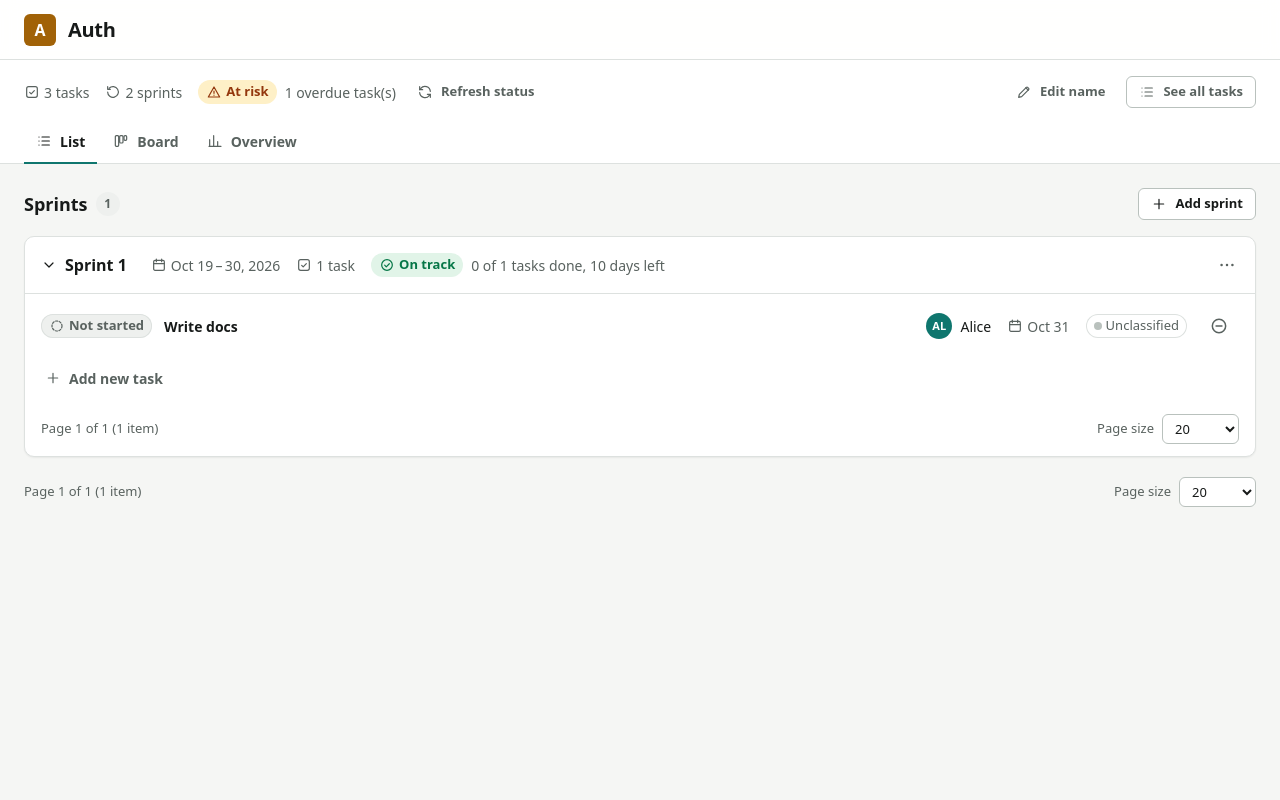
Test: Project page › tags selected existing tasks across a search, posting their ids
This screenshot has width=1280, height=800.
Click the button named "Actions for sprint Sprint 1" at (1227, 265), box [1207, 245, 1247, 285]
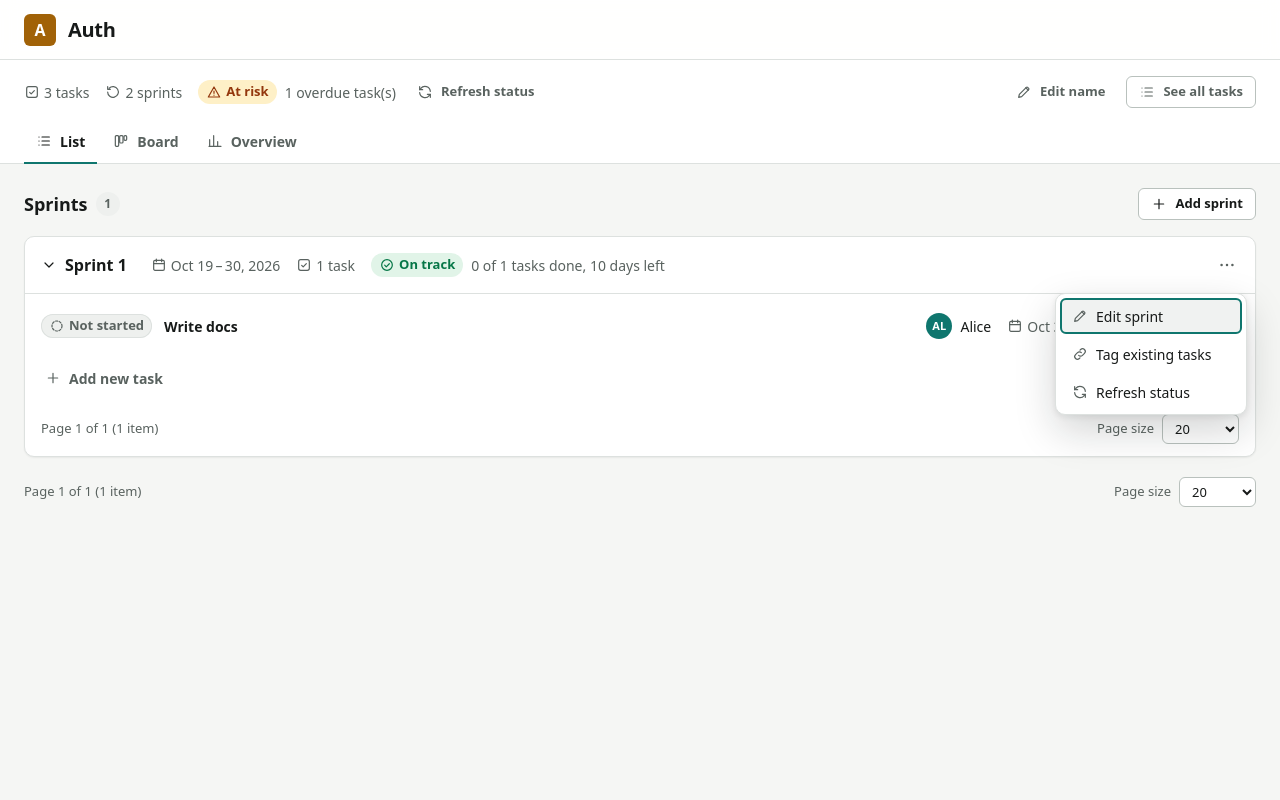
Click the menu item "Tag existing tasks" at (1151, 354), box [1060, 336, 1242, 372]
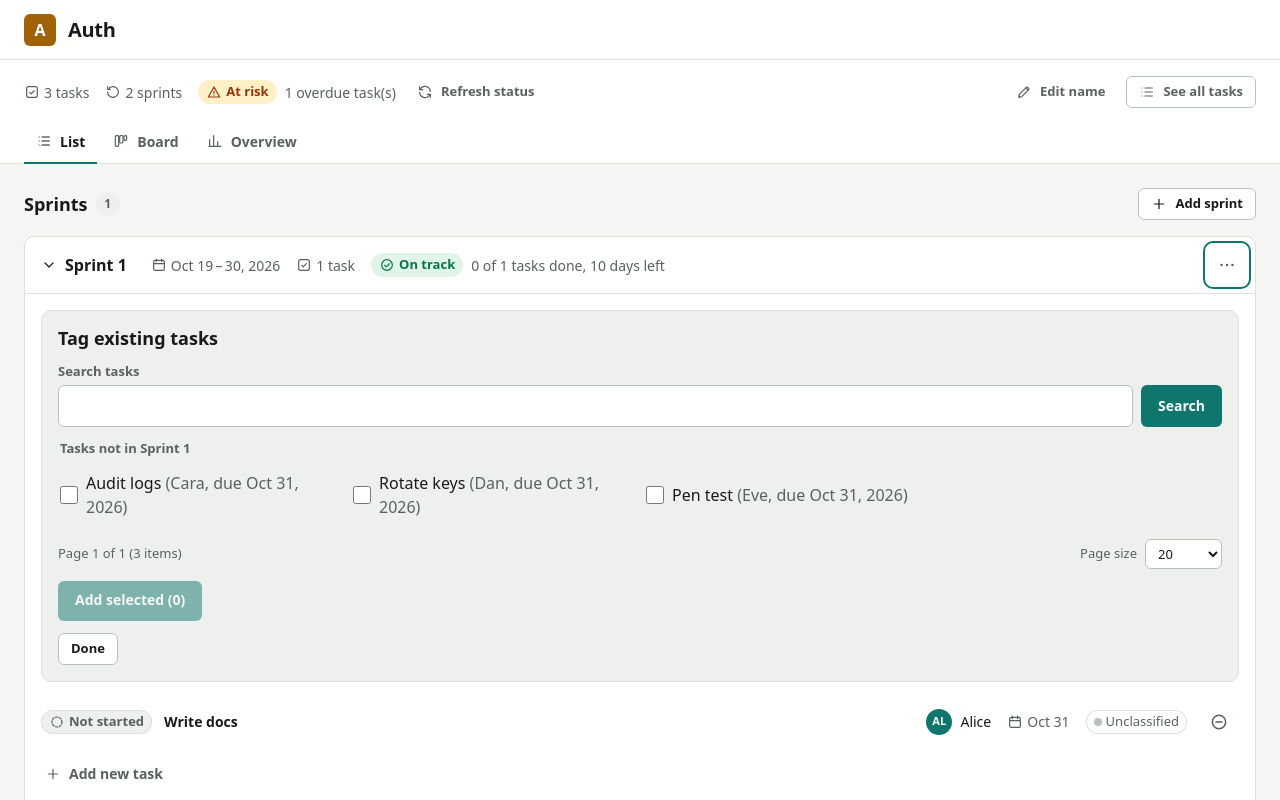
expect the button "Add selected (0)" is disabled: met, box [58, 580, 202, 620]
Click the checkbox labelled "Audit logs (Cara, due Oct 31, 2026)" at (69, 494), box [60, 486, 78, 504]
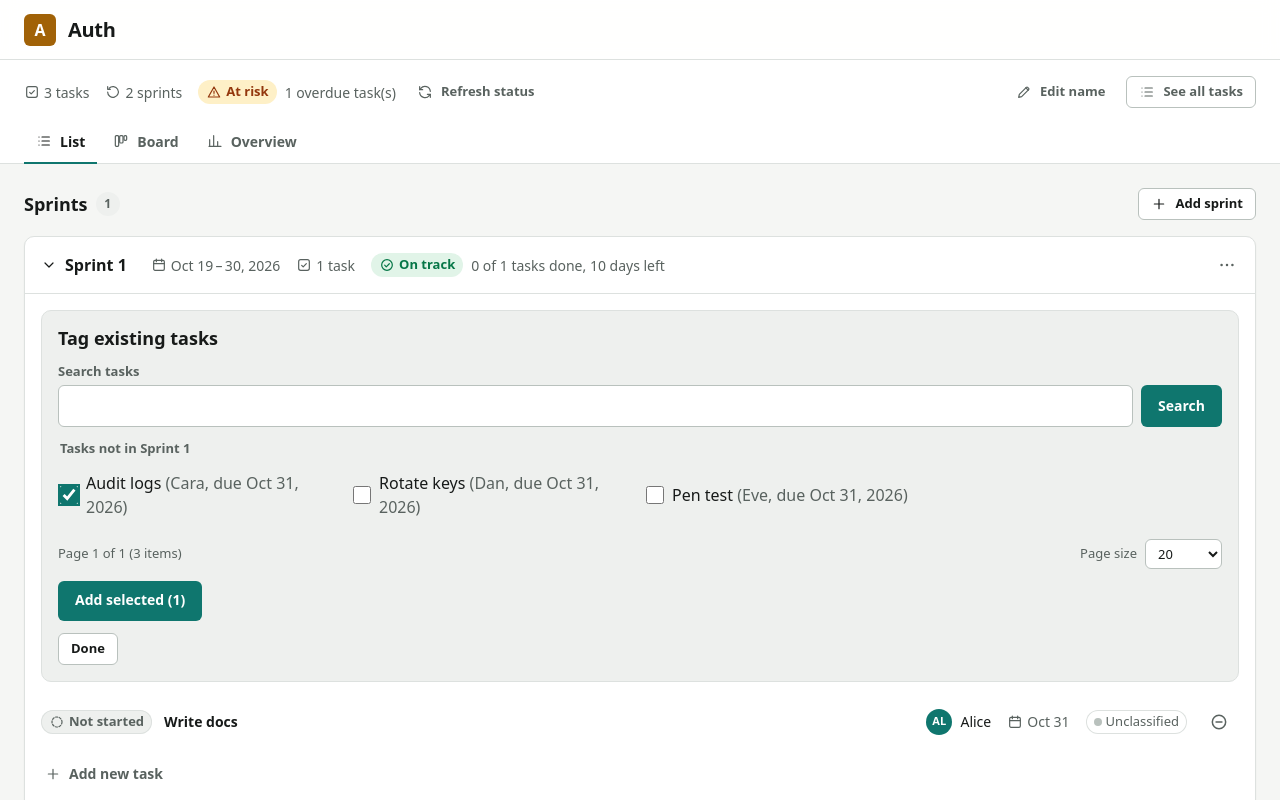
Type "keys" into the search field labelled "Search tasks" at (596, 406), box [58, 385, 1133, 427]
Click the button "Search" at (1182, 406), box [1141, 385, 1222, 427]
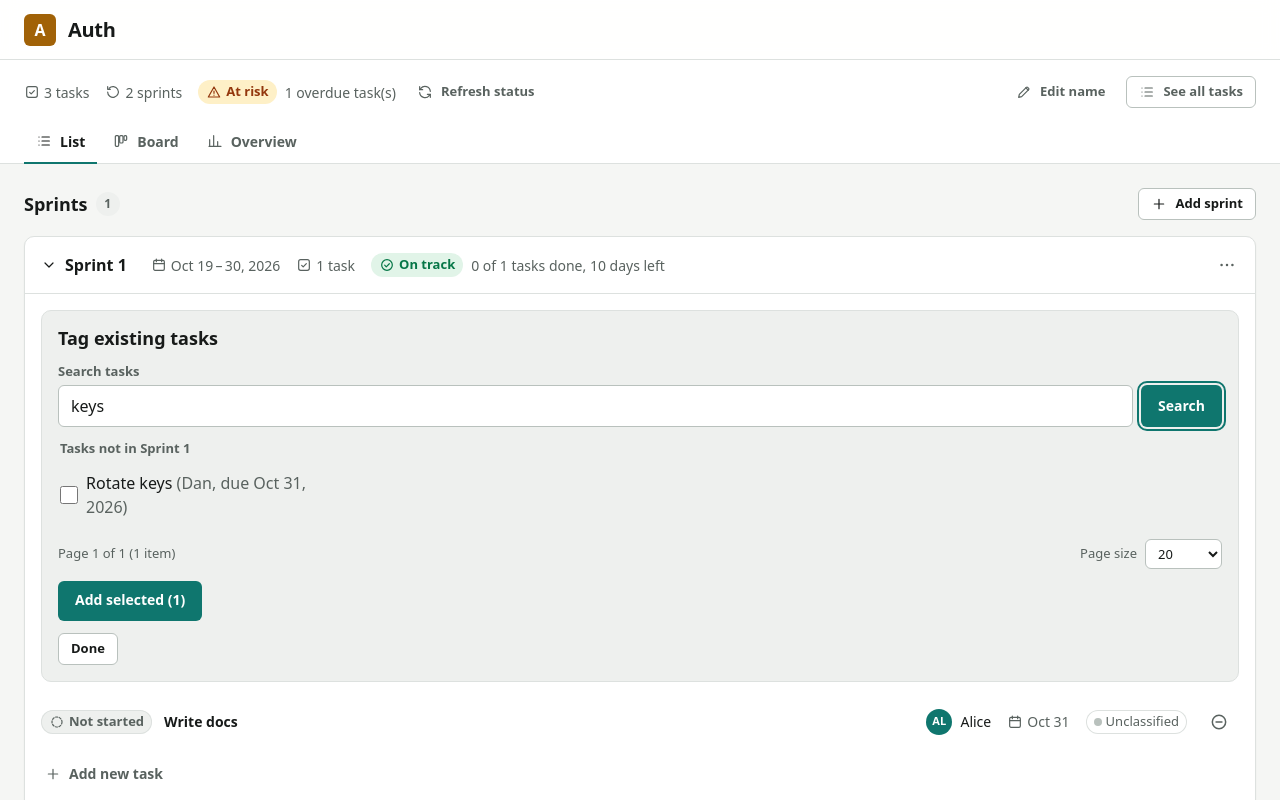
Click the checkbox labelled "Rotate keys (Dan, due Oct 31, 2026)" at (69, 494), box [60, 486, 78, 504]
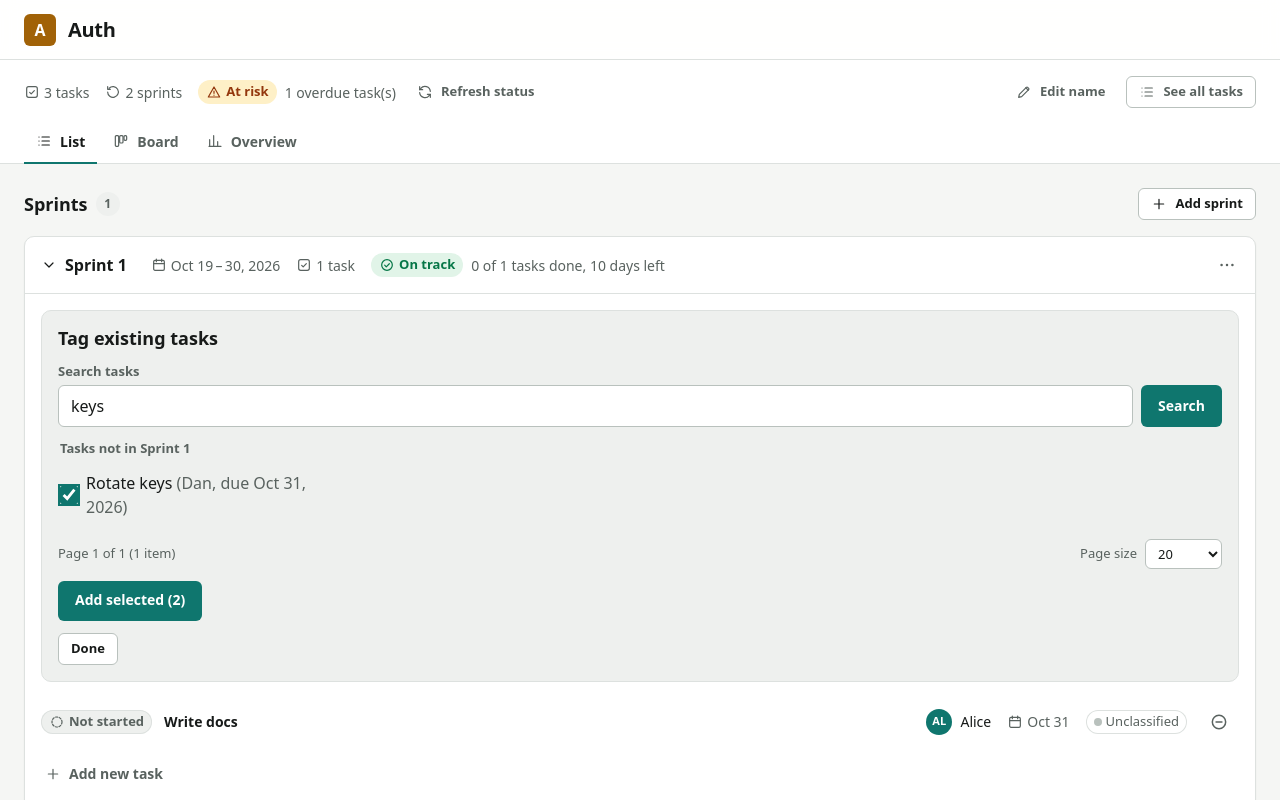
expect the label labelled "Audit logs" is not shown: met
expect the button "Add selected (2)" is shown: met
Click the button "Add selected (2)" at (130, 600), box [58, 580, 202, 620]
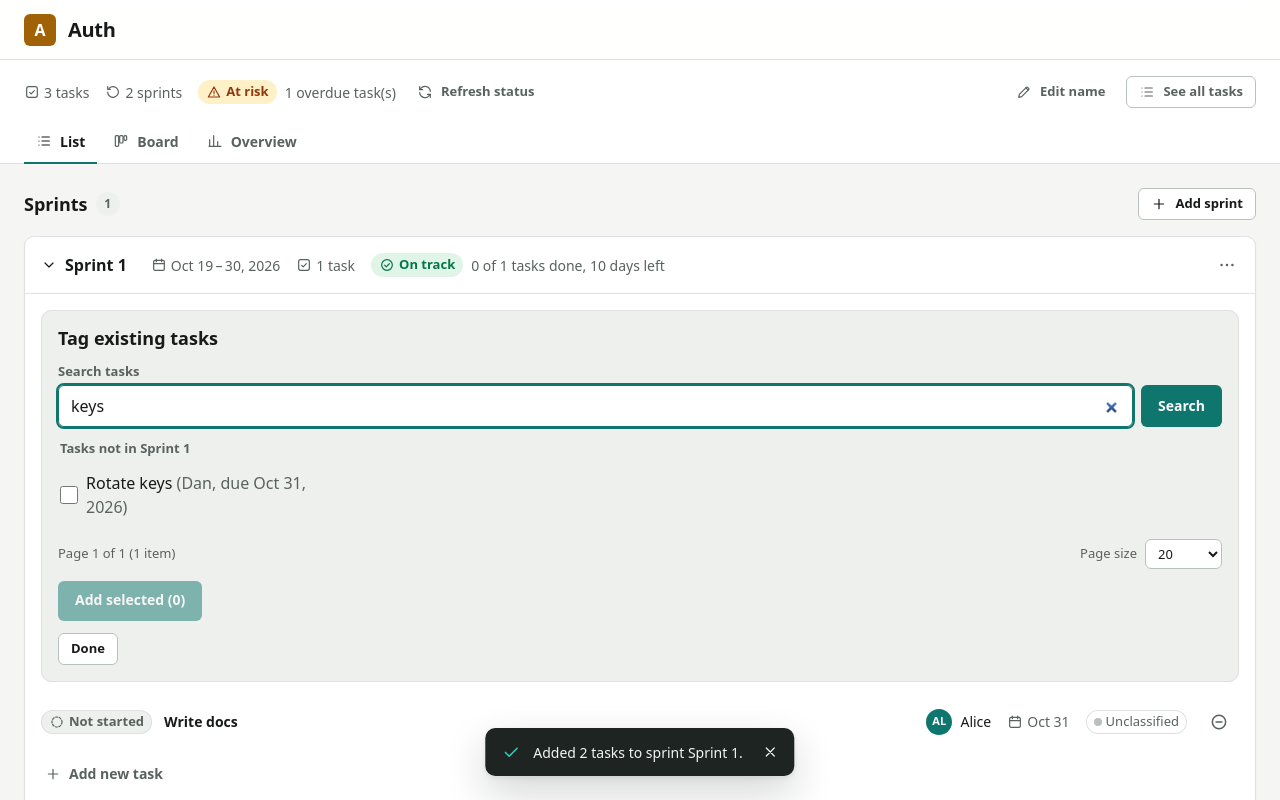
expect the button "Add selected (0)" is shown: met, box [58, 580, 202, 620]
